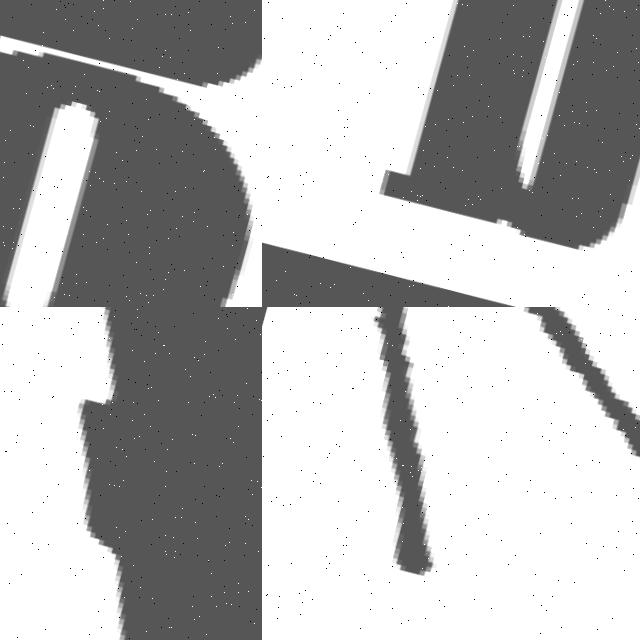G: (0, 0, 262, 307)
N: (363, 0, 640, 277)
T: (0, 307, 262, 640)
U: (268, 307, 640, 640)
